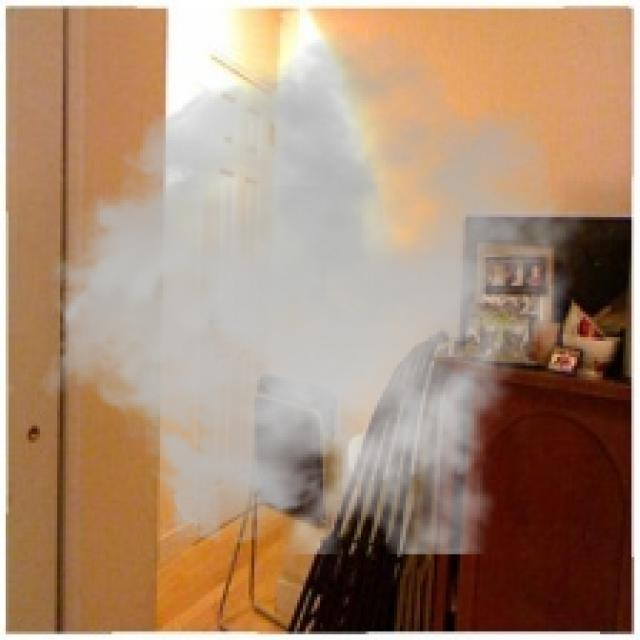smoke: (37, 29, 589, 554)
